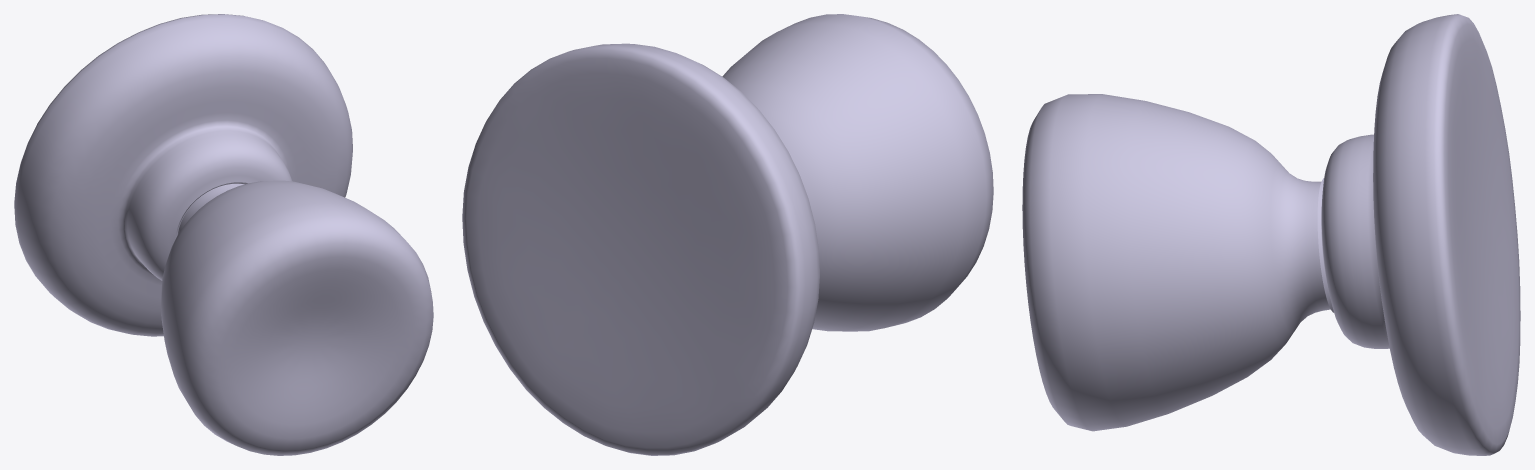
3 renders of one model, left to right at view 1: azimuth 30°, elevation 25°; view 2: azimuth 150°, elevation 25°; view 3: azimuth 270°, elevation 25°, orthographic. The views are drawn at different scales.
Visible parts, largest first — view 1: Door Knob; view 2: Door Knob; view 3: Door Knob.
Part boxes in pixels (x1,y1,x2,y2): Door Knob: (14,14,433,455); Door Knob: (462,14,993,455); Door Knob: (1022,14,1520,455).
Size of the model in its own units: 8.39 by 8.4 by 9.51.
